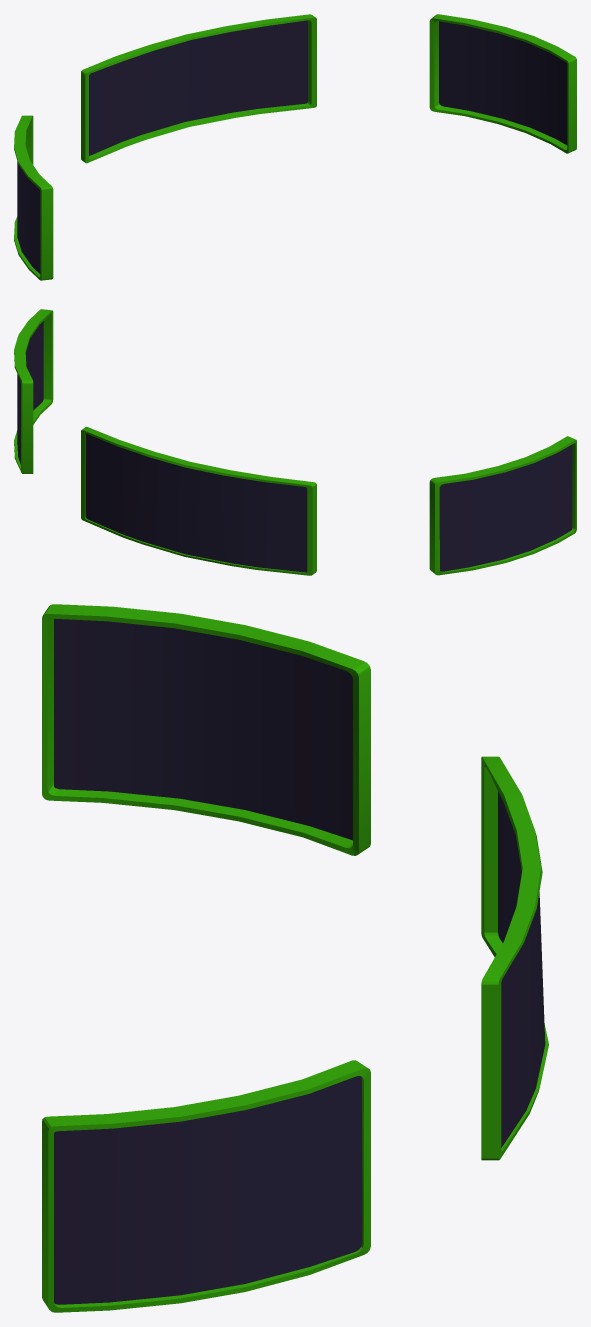
File: AG_Ceiling_Glass.fbx
The picture shows the model from 3 angles, top to bottom: view 1: azimuth 30°, elevation 25°; view 2: azimuth 150°, elevation 25°; view 3: azimuth 270°, elevation 25°; orthographic projection. The views are drawn at different scales.
Parts seen in each view (by area): view 1: AG_Ceiling_Glass; view 2: AG_Ceiling_Glass; view 3: AG_Ceiling_Glass.
Part boxes in pixels (<box>): AG_Ceiling_Glass: <box>14,14,576,280</box>; AG_Ceiling_Glass: <box>14,309,576,575</box>; AG_Ceiling_Glass: <box>42,604,548,1312</box>.
Size of the model in its own units: 3992 by 666 by 1638.
